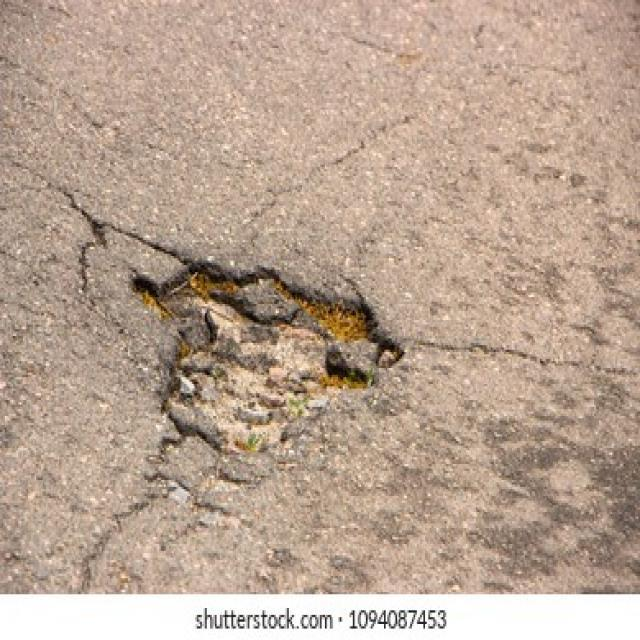Pothole: (127, 254, 406, 474)
